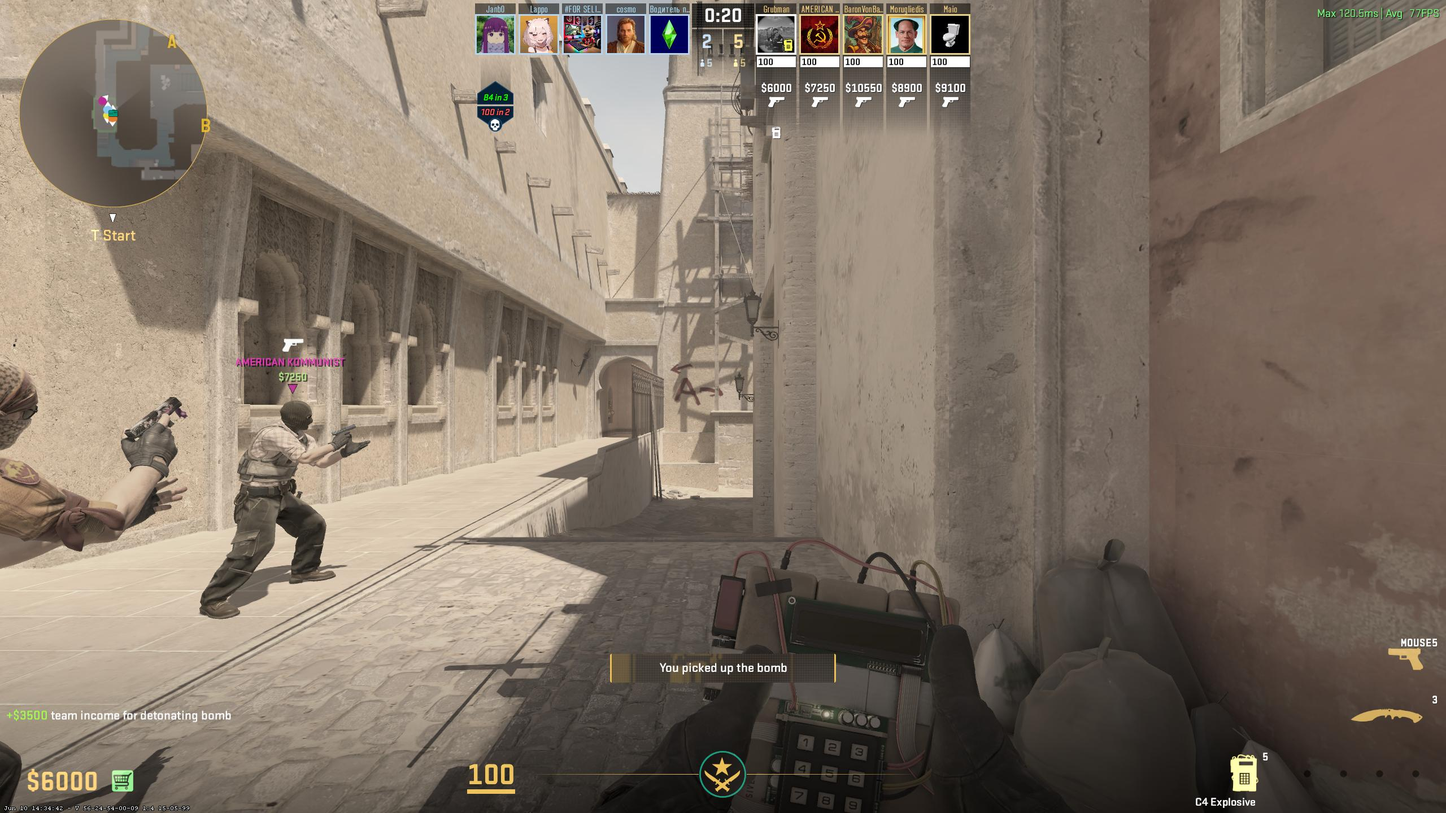Terrorist: (0, 345, 185, 557), (204, 402, 368, 614)
